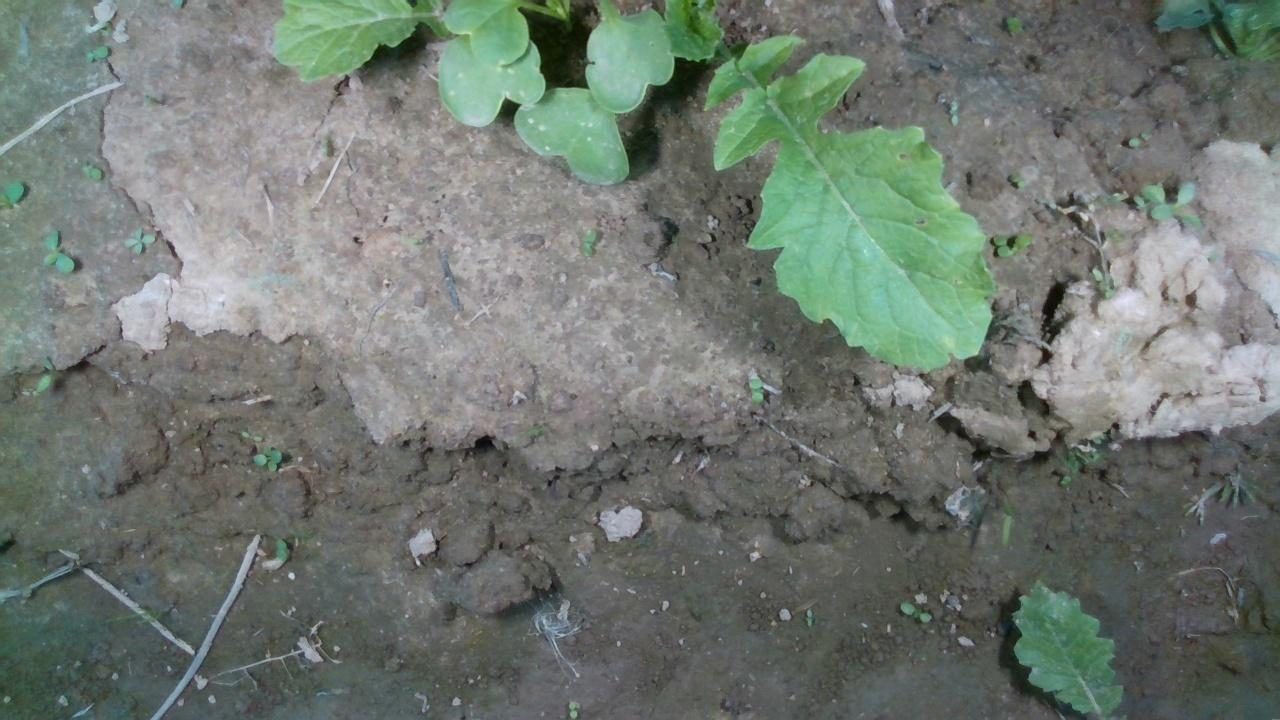weed: (41, 225, 74, 273), (249, 441, 283, 473), (122, 225, 155, 256), (898, 600, 932, 622), (80, 42, 109, 64), (577, 226, 598, 256), (1123, 128, 1154, 148), (77, 159, 104, 181), (746, 376, 766, 403), (1006, 170, 1026, 190), (946, 98, 960, 126), (239, 429, 263, 441), (564, 697, 577, 717), (804, 607, 813, 629), (1058, 472, 1071, 485)
